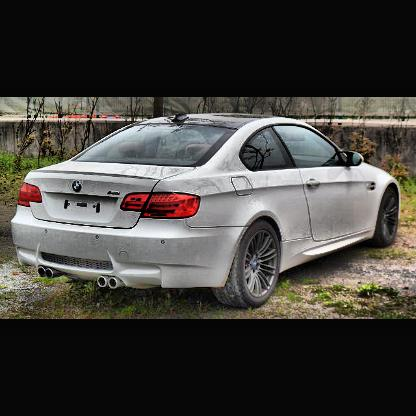BMW M3 Coupe 2012: (13, 113, 404, 311)
